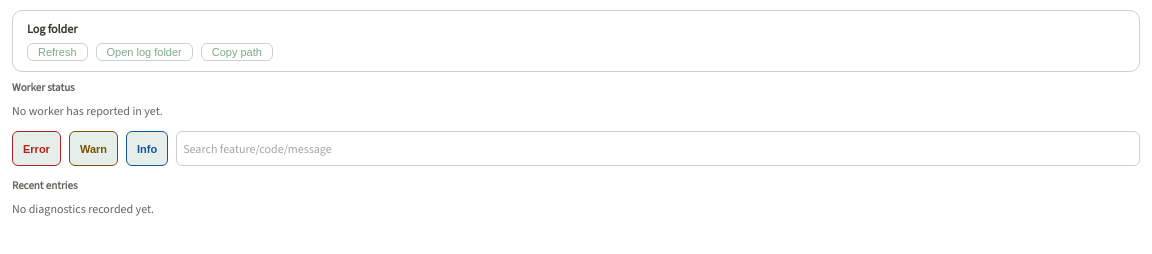
Test: DiagnosticsTab › shows an inline failure message when opening the log folder fails
Click the button with test id "ai-diag-open-log-dir": (144, 52) [96,43,193,61]
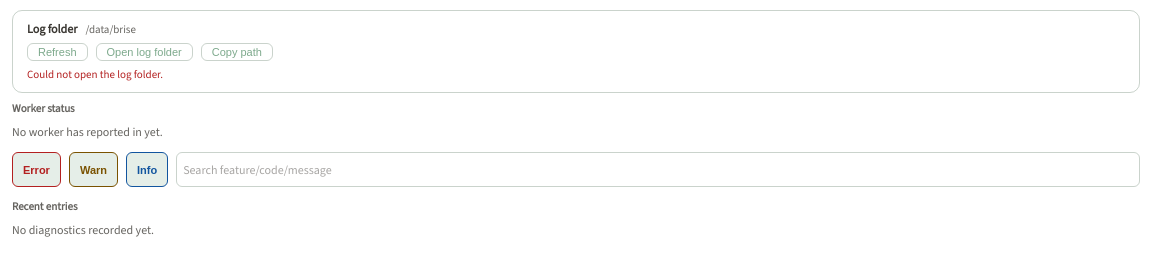
Expected: the text "Could not open the log folder." is shown, [27,67,163,82]
